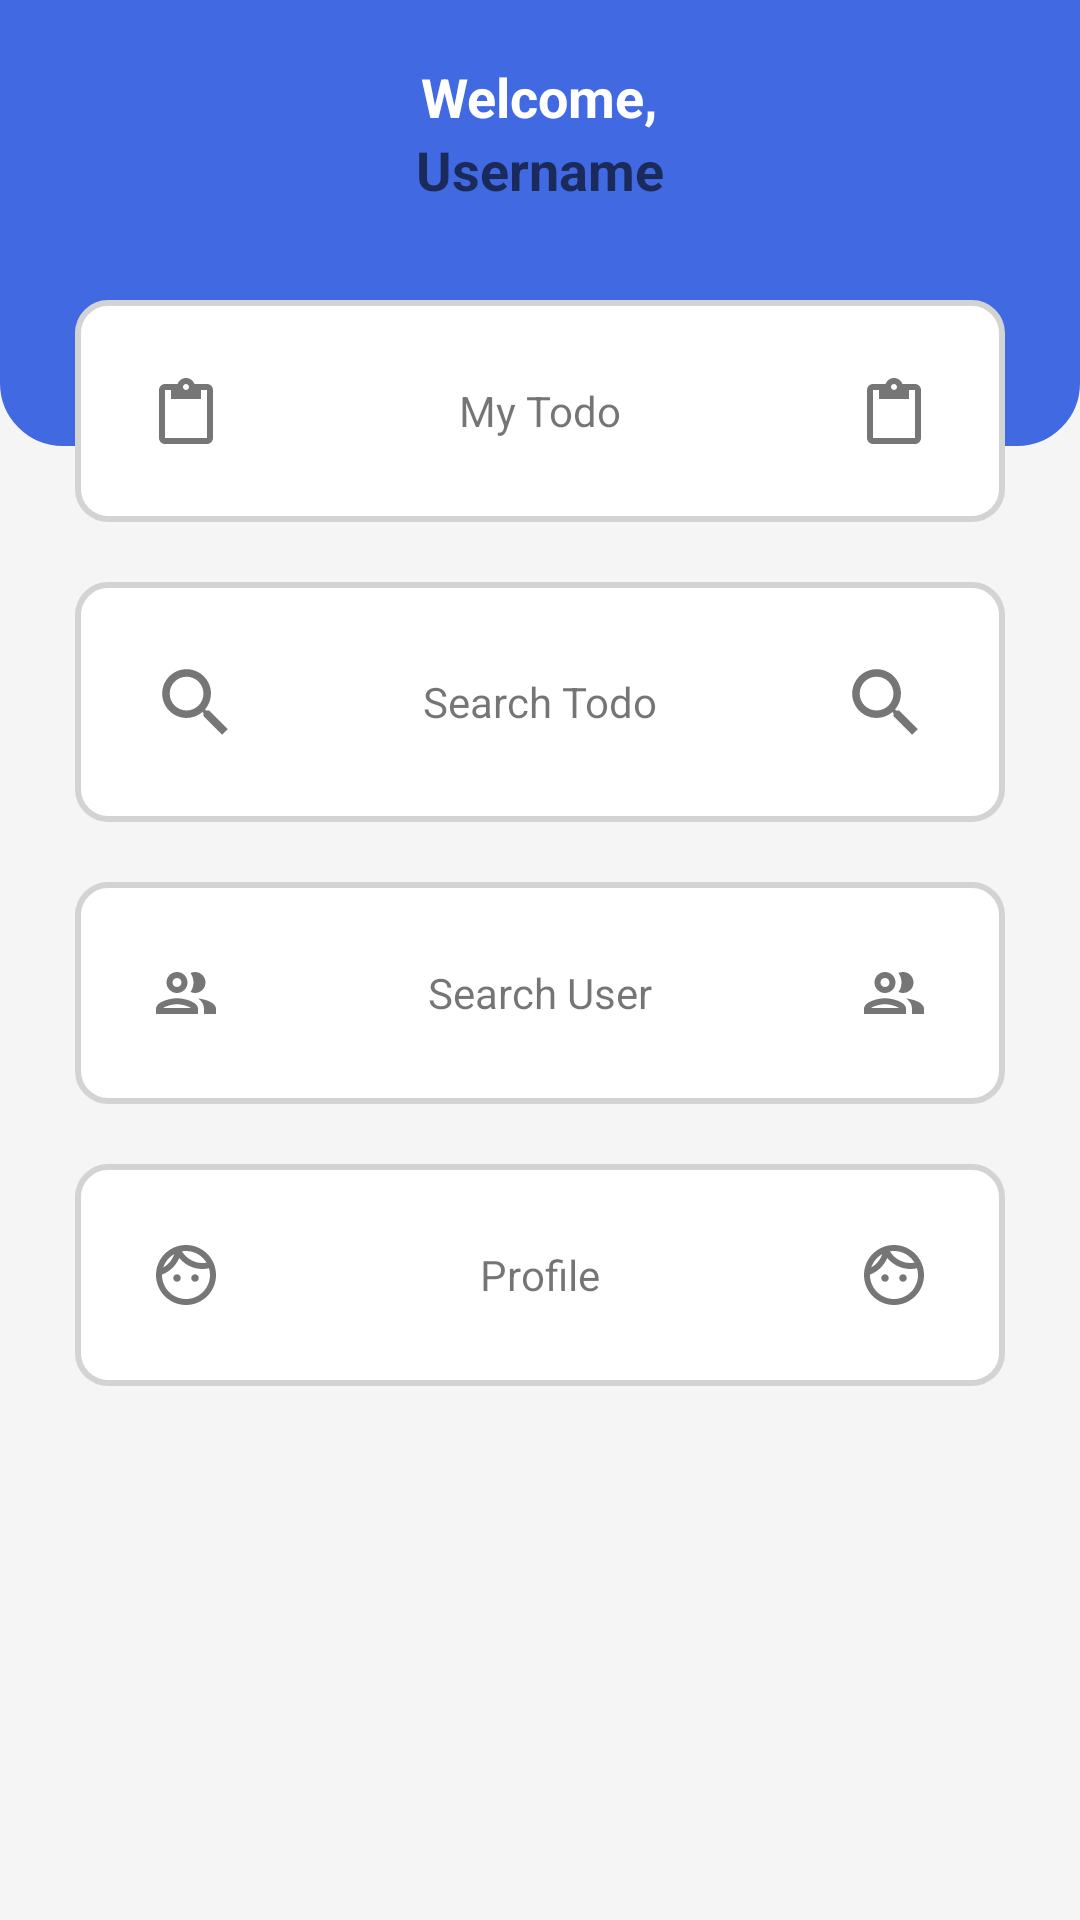

Named icons in this screenshot (1080x1920) and their bounding boxes, (x1, y1, x2, y2):
face profile: (156, 1245, 216, 1305), (864, 1245, 924, 1305)
search todo: (162, 669, 228, 735), (852, 669, 918, 735)
search users: (156, 972, 216, 1014), (864, 972, 924, 1014)
todo: (159, 378, 213, 444), (867, 378, 921, 444)
